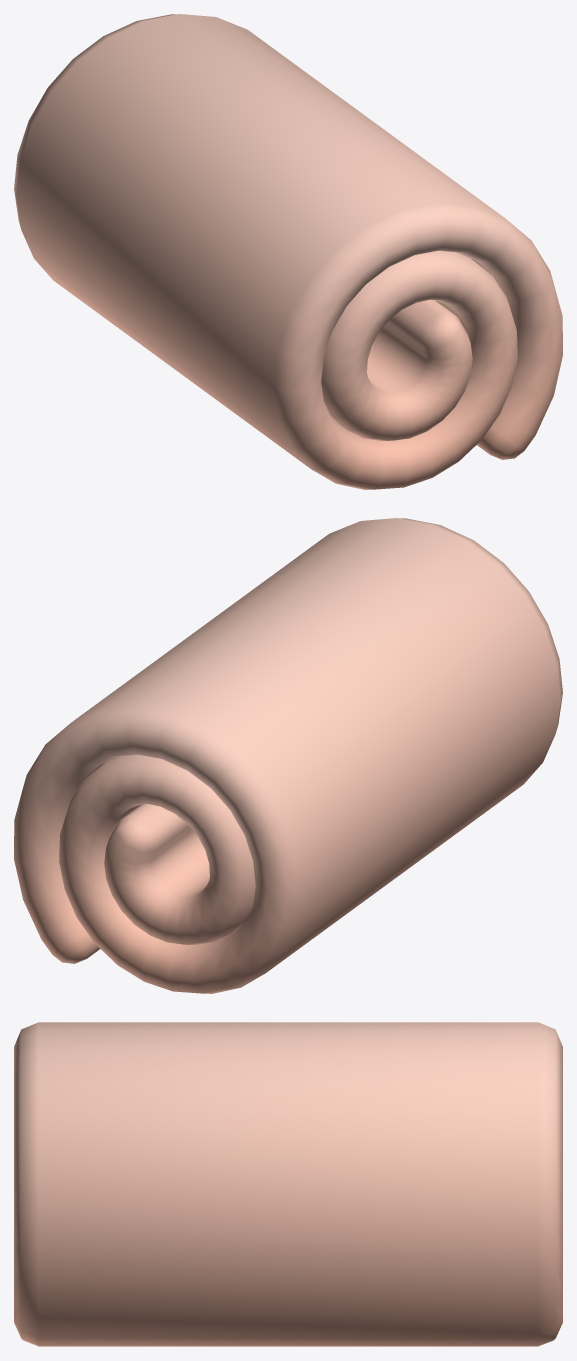
Rendered from Towel_01.glb.
3 renders of one model, top to bottom at view 1: azimuth 30°, elevation 25°; view 2: azimuth 150°, elevation 25°; view 3: azimuth 270°, elevation 25°, orthographic. The views are drawn at different scales.
Parts seen in each view (by area): view 1: Towel_01; view 2: Towel_01; view 3: Towel_01.
Boxes of the visible parts, left/top/right/bottom form: Towel_01: left=14, top=14, right=562, bottom=489; Towel_01: left=14, top=518, right=562, bottom=993; Towel_01: left=14, top=1022, right=562, bottom=1346.
Size of the model in its own units: 0.1818 by 0.1677 by 0.3121.
1 material, 1 textured.
